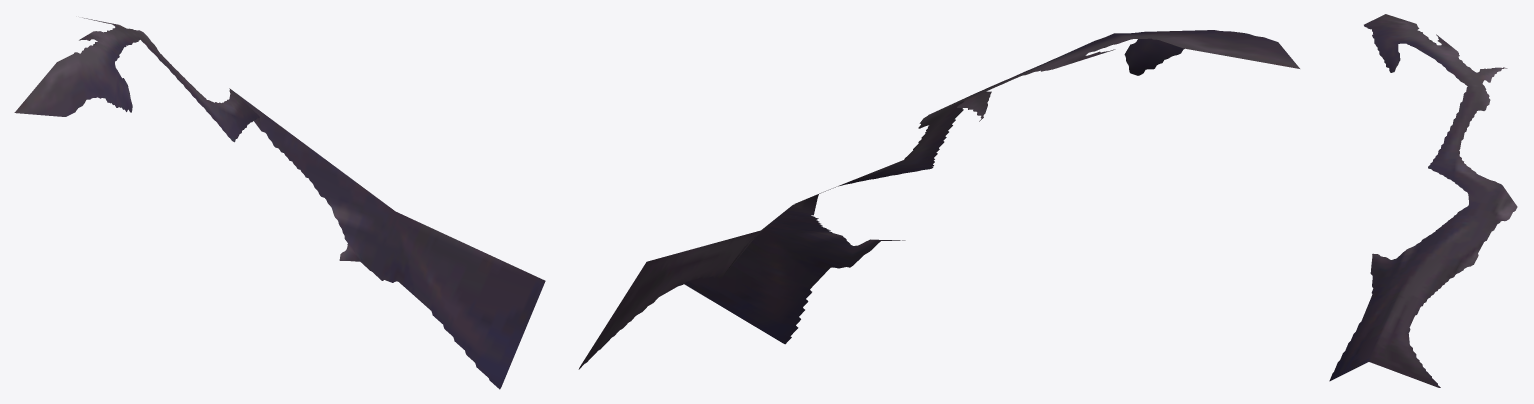
The model's file is yw_shanlin_treebranch_021.FBX.
The picture shows the model from 3 angles, left to right: view 1: azimuth 30°, elevation 25°; view 2: azimuth 150°, elevation 25°; view 3: azimuth 270°, elevation 25°; orthographic projection. The views are drawn at different scales.
Parts seen in each view (by area): view 1: yw_shanlin_treebranch_021; view 2: yw_shanlin_treebranch_021; view 3: yw_shanlin_treebranch_021.
Part boxes in pixels (<box>): yw_shanlin_treebranch_021: <box>14,17,545,389</box>; yw_shanlin_treebranch_021: <box>578,30,1299,369</box>; yw_shanlin_treebranch_021: <box>1329,14,1517,387</box>.
Size of the model in its own units: 328 by 227 by 161.
